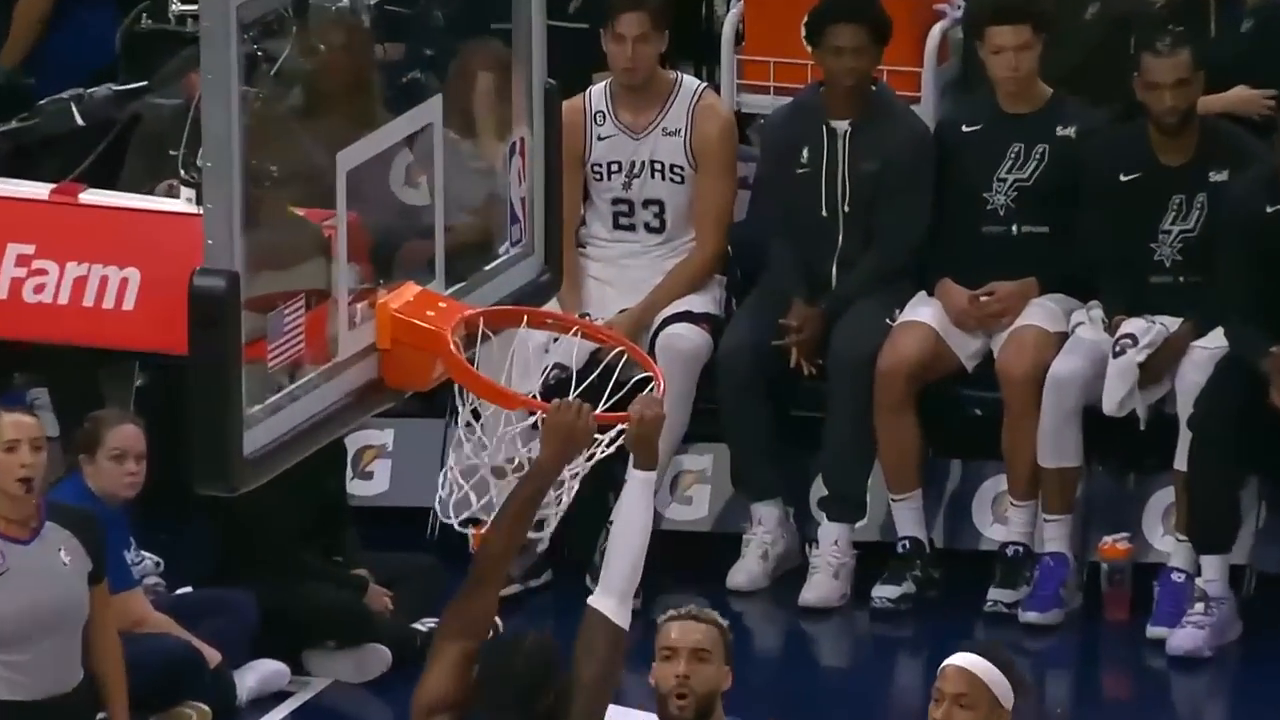net: (425, 292, 672, 562)
